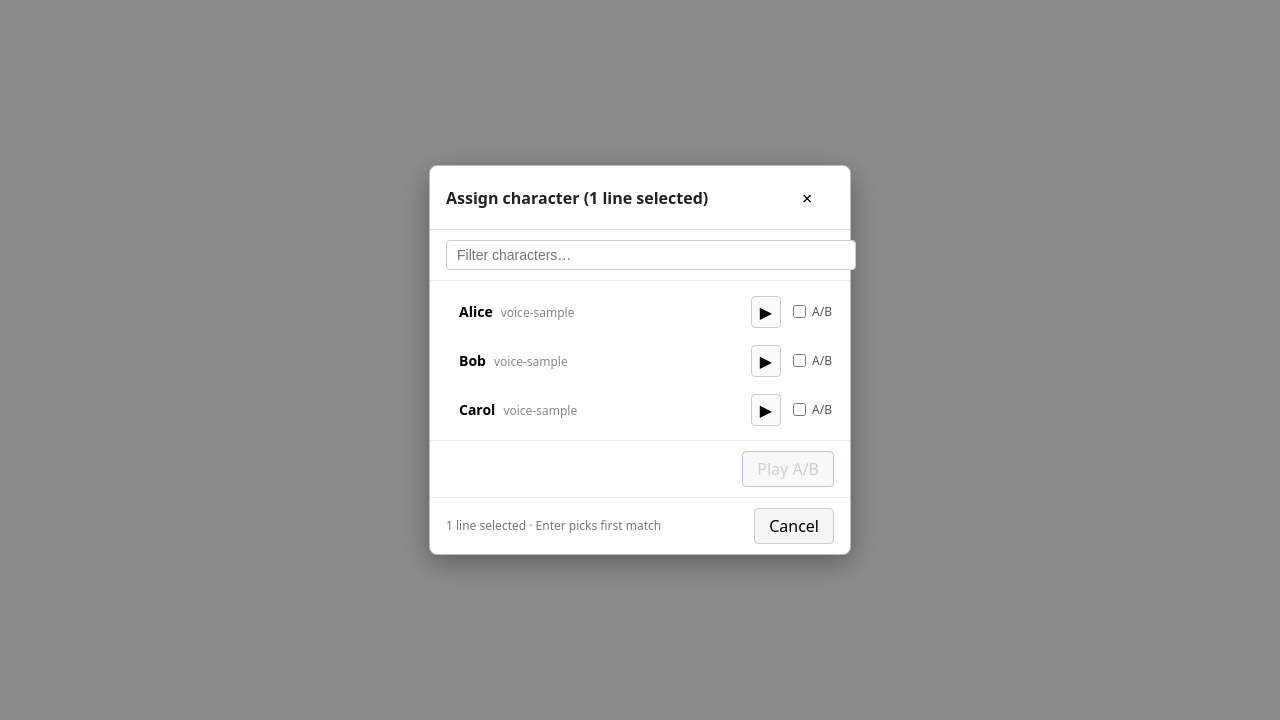
Test: CharacterAssignPicker (Phase 10) › keeps at most two characters in A/B compare
Click the checkbox with test id "assign-compare-Alice" at (800, 312), box [793,305,806,318]
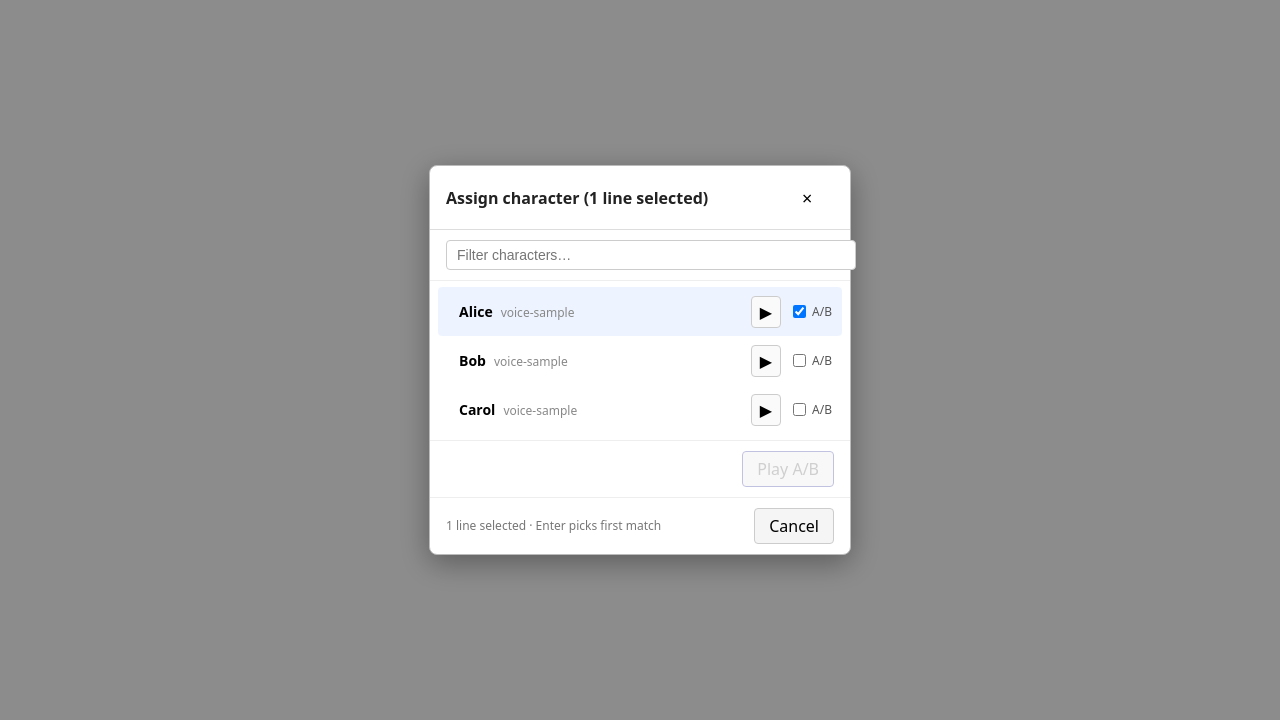
Expected: the button with test id "assign-compare-play" is disabled, [742,451,834,487]
Click the checkbox with test id "assign-compare-Bob" at (800, 361), box [793,354,806,367]
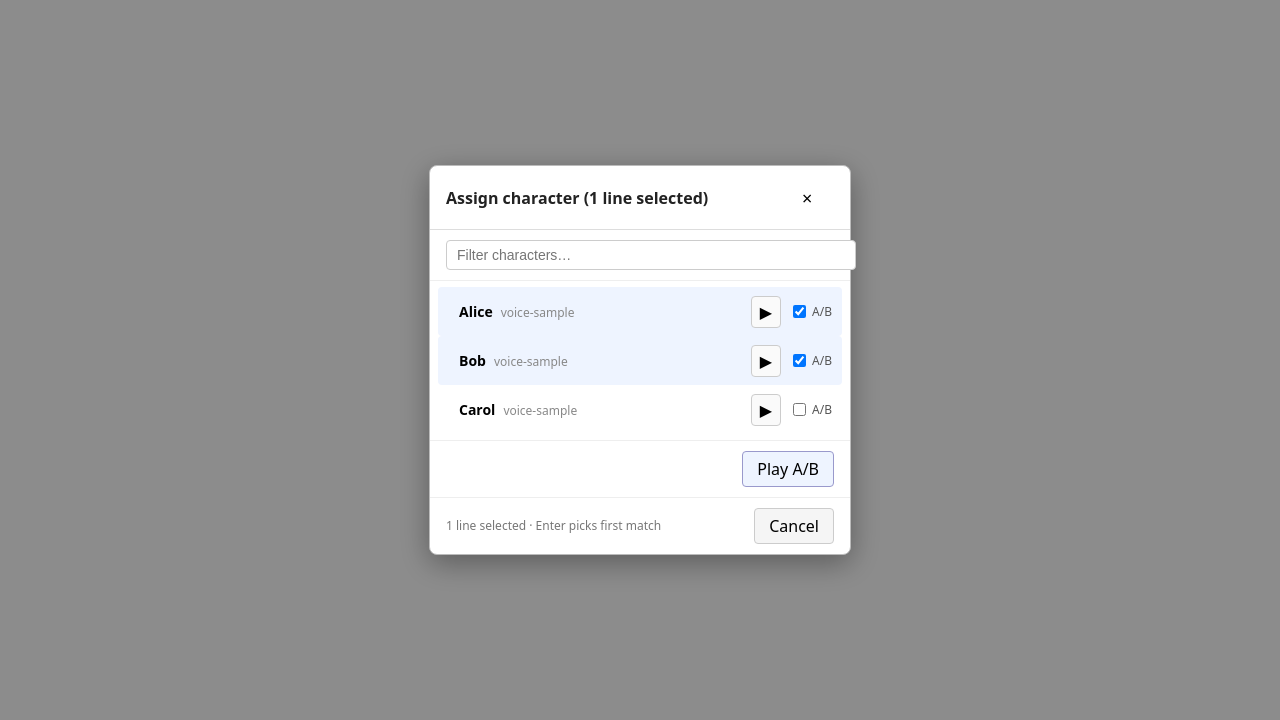
Expected: the button with test id "assign-compare-play" is enabled, [742,451,834,487]
Click the checkbox with test id "assign-compare-Alice" at (800, 312), box [793,305,806,318]
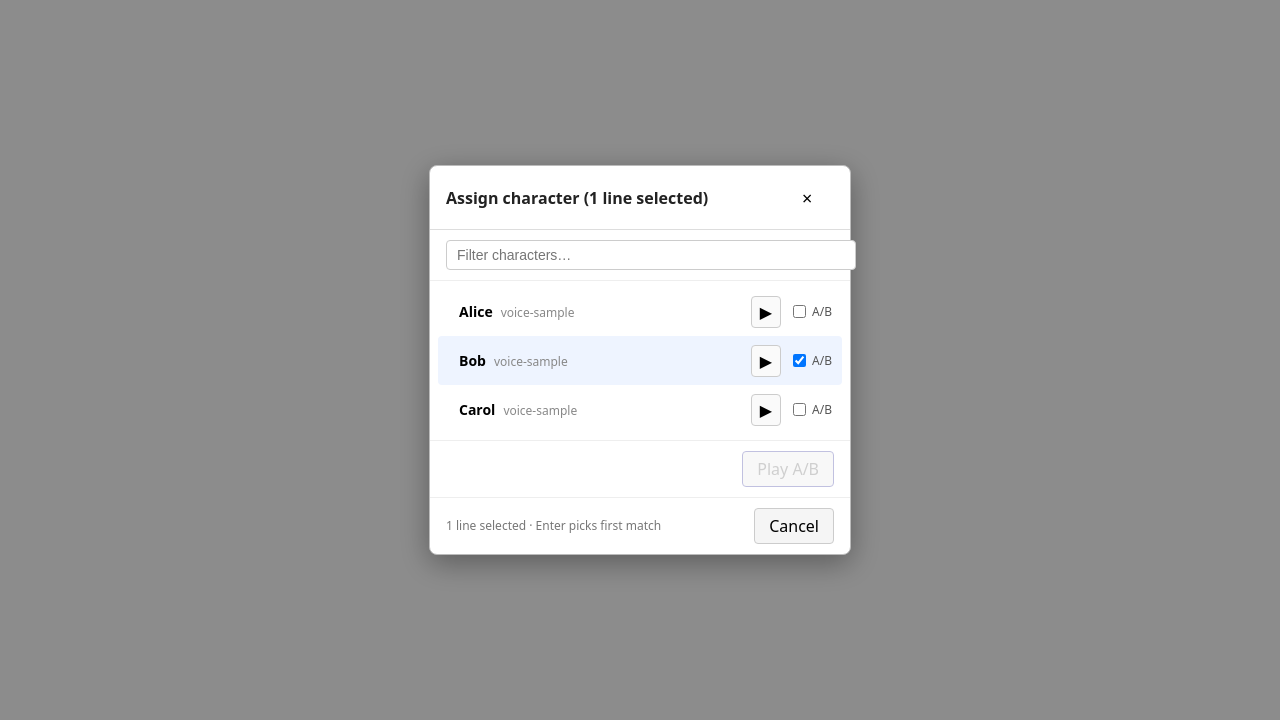
Expected: the button with test id "assign-compare-play" is disabled, [742,451,834,487]
# Adding Carol as third keeps the cap at two (Bob + Carol)
Click the checkbox with test id "assign-compare-Carol" at (800, 410), box [793,403,806,416]
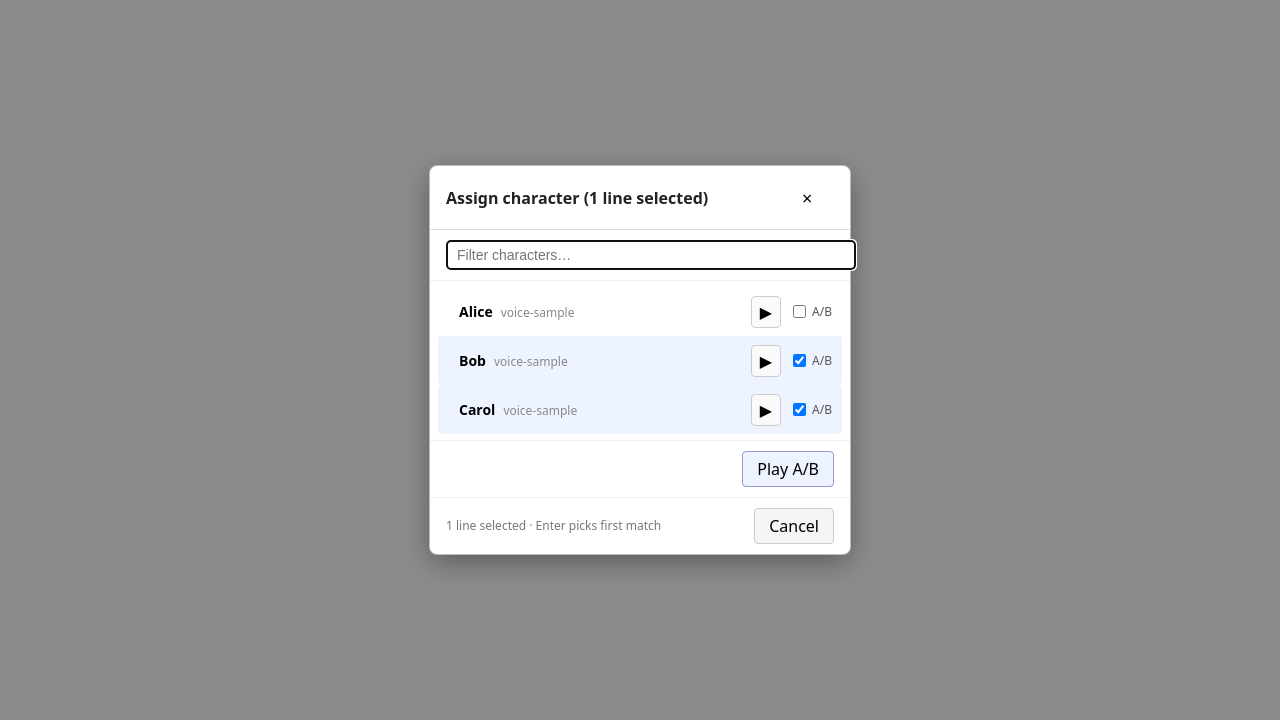
Expected: the button with test id "assign-compare-play" is enabled, [742,451,834,487]
